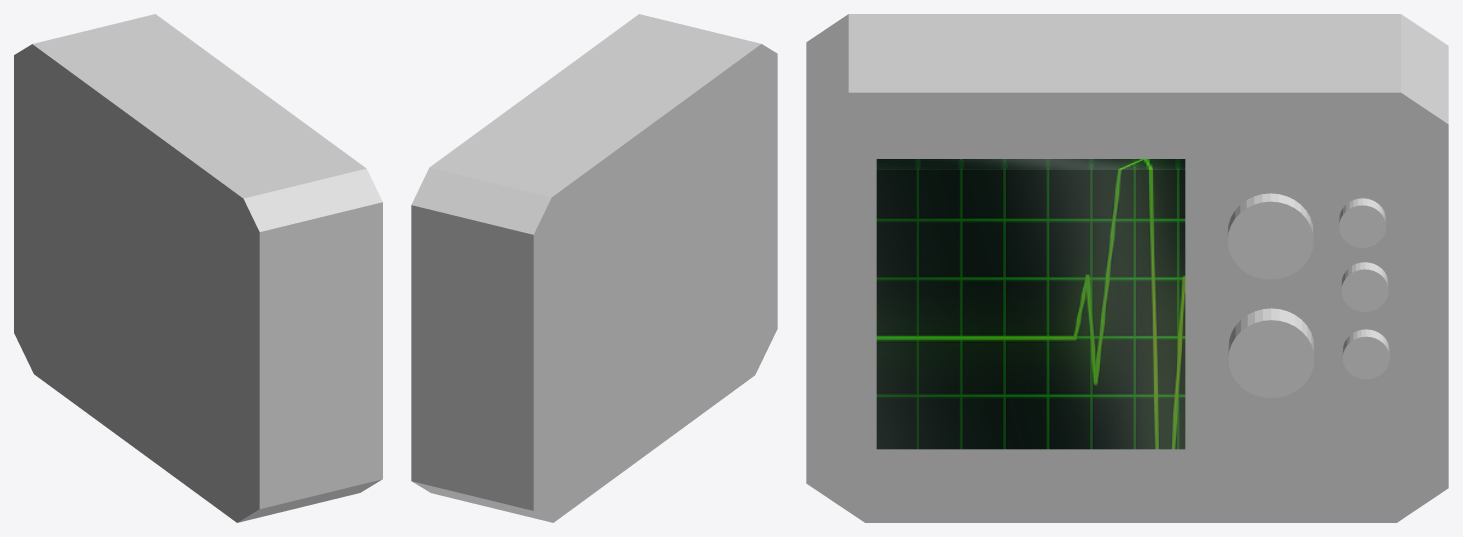
File: patient-monitor.fbx
The picture shows the model from 3 angles, left to right: view 1: azimuth 30°, elevation 25°; view 2: azimuth 150°, elevation 25°; view 3: azimuth 270°, elevation 25°; orthographic projection. The views are drawn at different scales.
Parts seen in each view (by area): view 1: Cube; view 2: Cube; view 3: Cube, Cubo, Cilindro.001, Cilindro, Cilindro.002, Cilindro.003, Cilindro.004.
Boxes of the visible parts, x1,y1,x2,y2 form: Cube: (14, 14, 382, 522); Cube: (411, 14, 777, 522); Cube: (806, 14, 1448, 522); Cubo: (876, 159, 1185, 449); Cilindro.001: (1228, 308, 1314, 397); Cilindro: (1227, 193, 1313, 279); Cilindro.002: (1342, 329, 1389, 379); Cilindro.003: (1341, 262, 1388, 311); Cilindro.004: (1339, 198, 1385, 247).
Size of the model in its own units: 41.2 by 91.52 by 124.
Materials: 7 (1 with a texture image).
